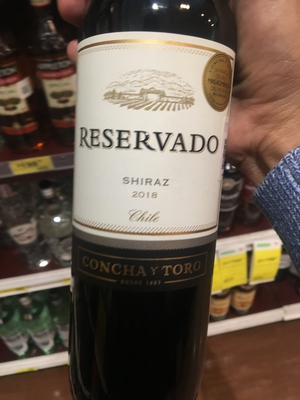reservado shiraz: (70, 9, 232, 400)
